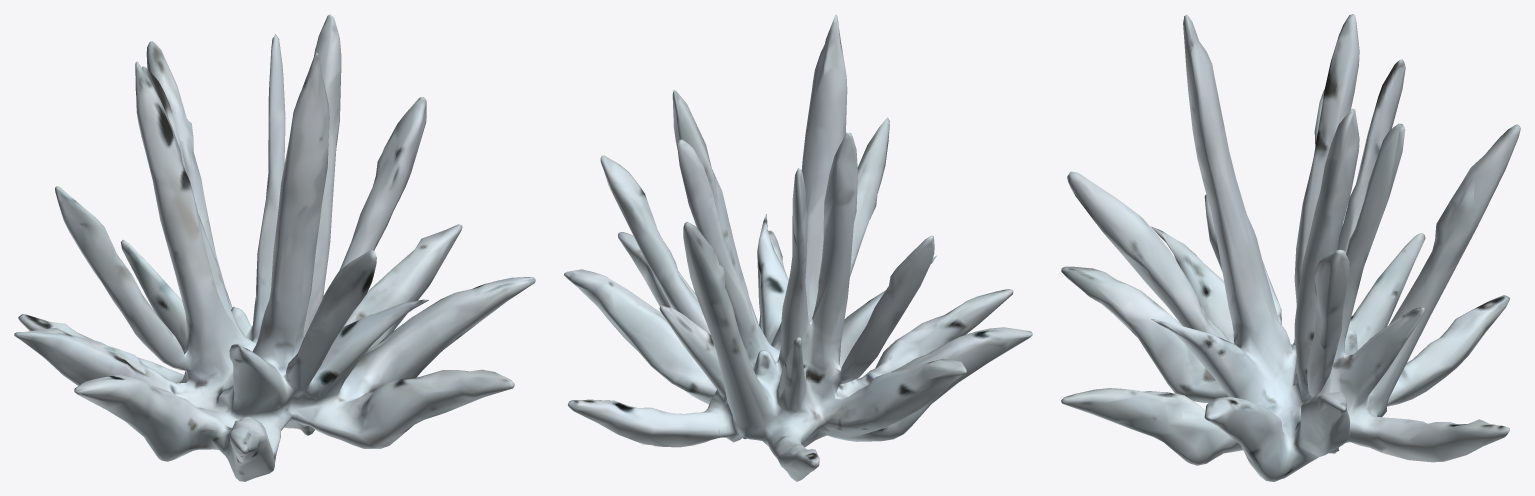
The model's file is icecrystal.glb.
The picture shows the model from 3 angles, left to right: view 1: azimuth 30°, elevation 25°; view 2: azimuth 150°, elevation 25°; view 3: azimuth 270°, elevation 25°; orthographic projection. The views are drawn at different scales.
Visible parts, largest first — view 1: model; view 2: model; view 3: model.
Boxes of the visible parts, left/top/right/bottom form: model: left=14, top=14, right=535, bottom=481; model: left=564, top=15, right=1032, bottom=481; model: left=1061, top=14, right=1520, bottom=481.
Size of the model in its own units: 1.63 by 1.44 by 1.41.
1 material, 1 textured.
